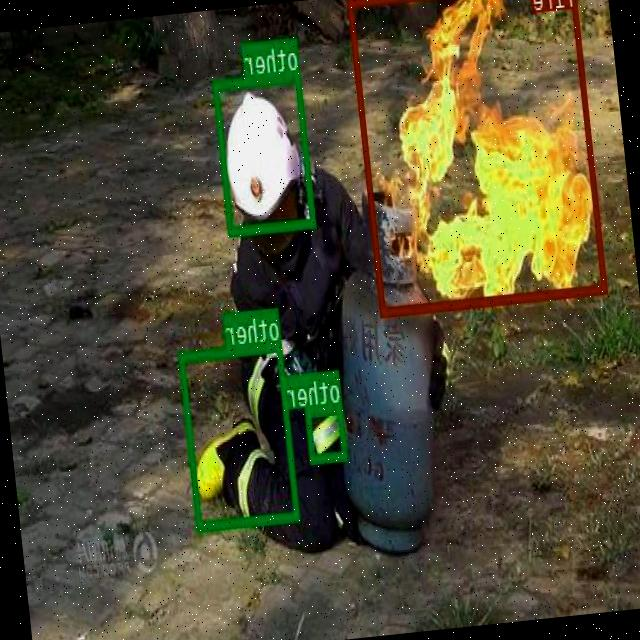fire: (348, 0, 609, 314)
